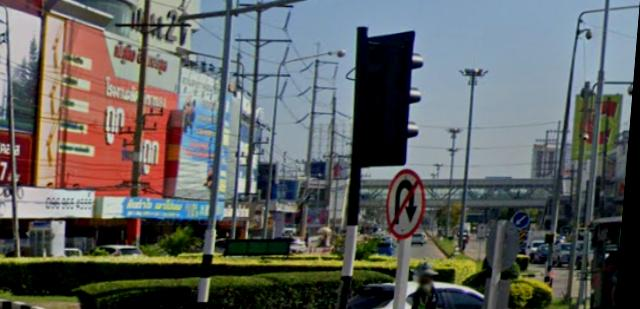not_u_turn_right: (389, 168, 433, 238)
